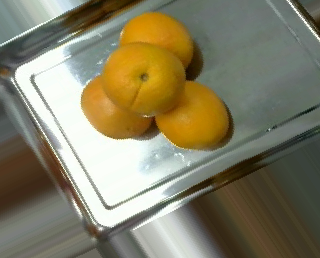Orange: (101, 43, 186, 117), (152, 79, 229, 151), (118, 12, 194, 78), (80, 73, 154, 140)
